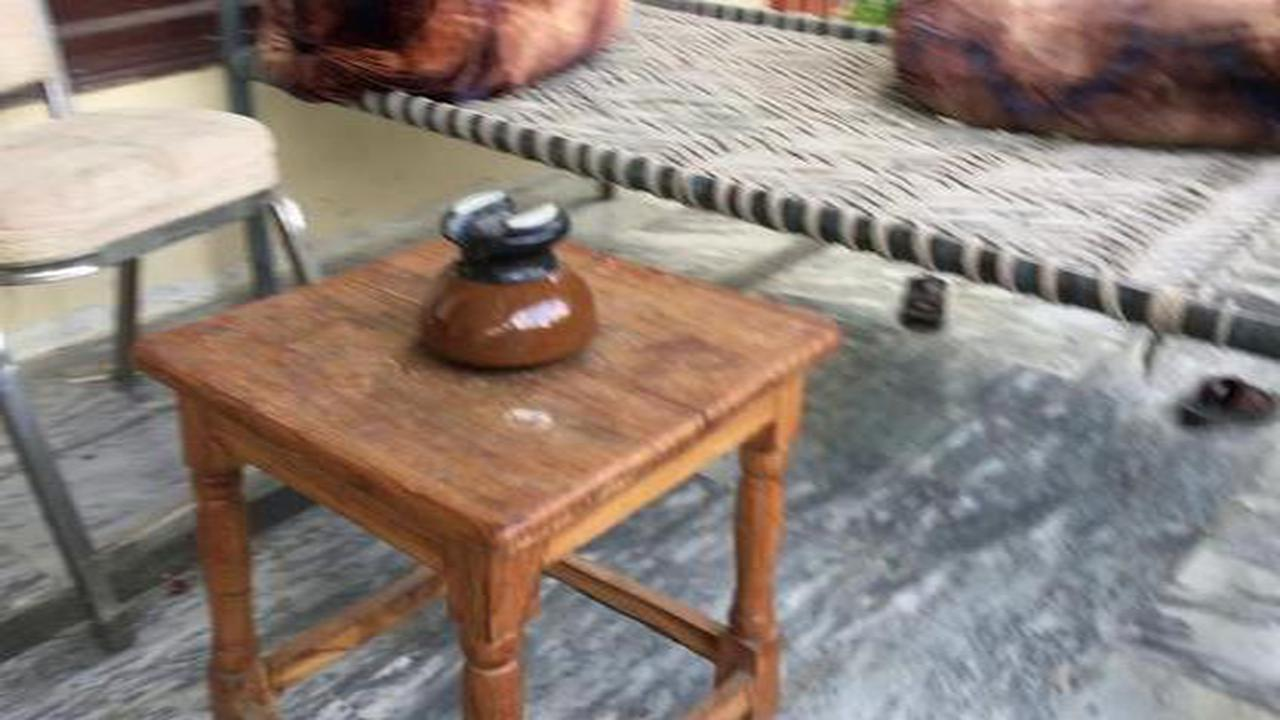insulator_pin: (391, 175, 619, 380)
